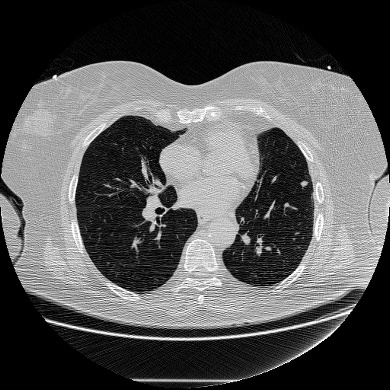PN: (300, 179, 308, 187)
